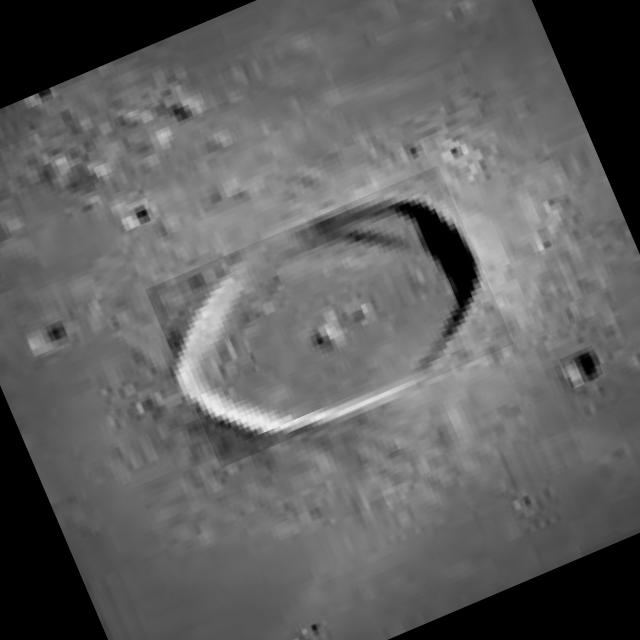crater: (144, 165, 514, 468), (559, 345, 604, 387)
